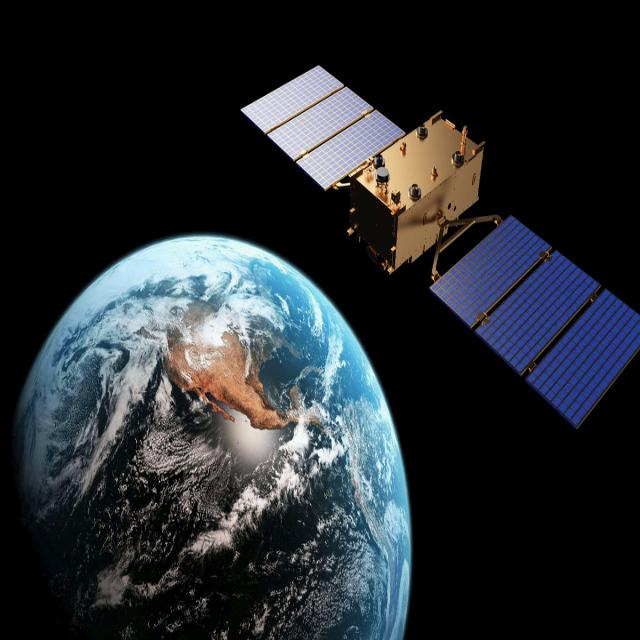satellite: (238, 54, 640, 436)
